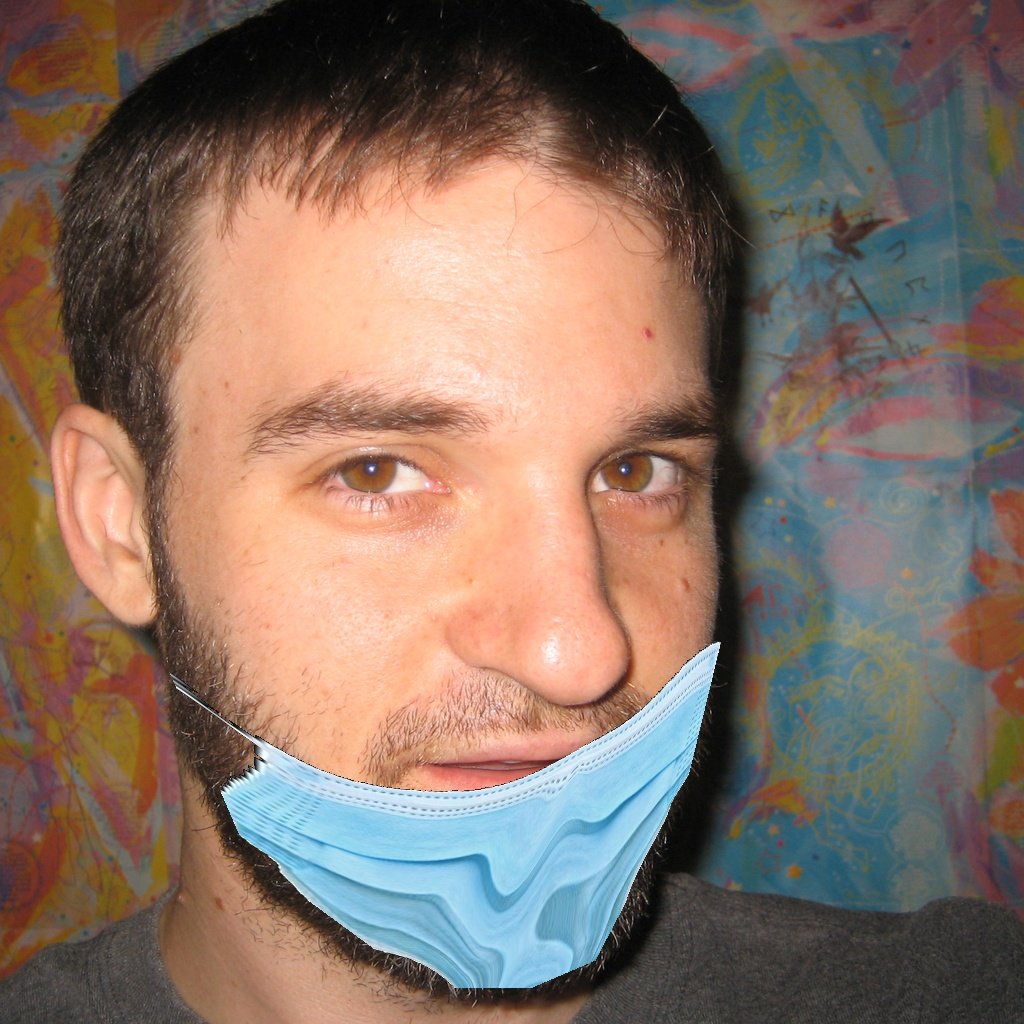mask_weared_incorrect: (219, 396, 729, 994)
